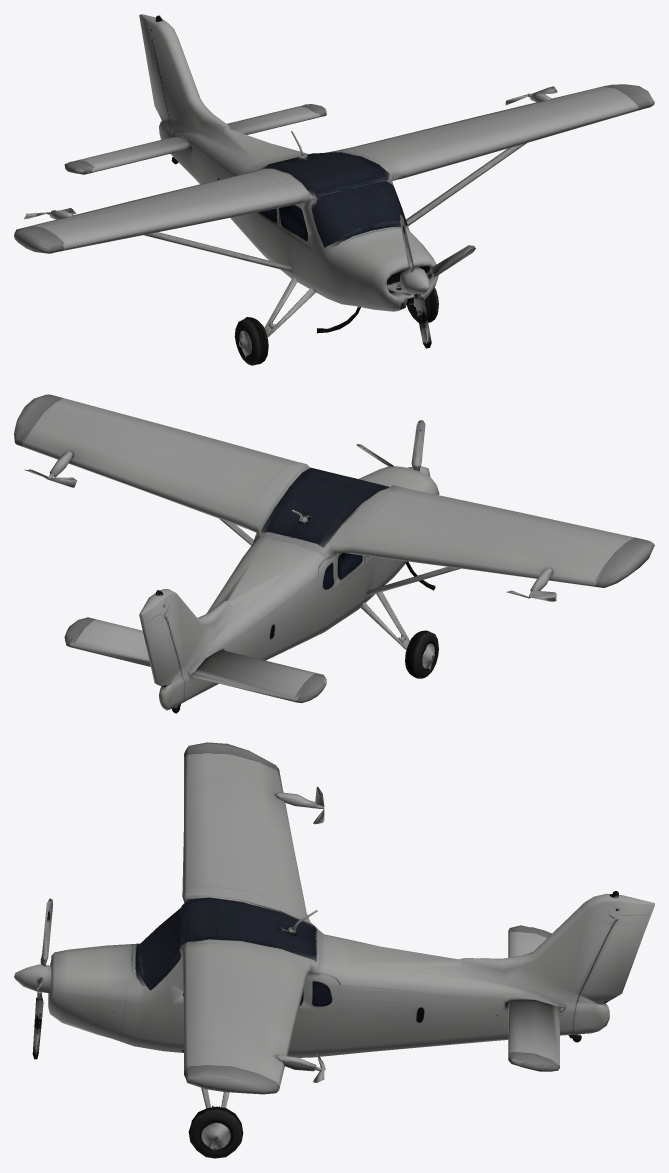
Rendered from cessna.glb.
3 views of the same model, one above another, from view 1: azimuth 30°, elevation 25°; view 2: azimuth 150°, elevation 25°; view 3: azimuth 270°, elevation 25° (orthographic). The views are drawn at different scales.
Parts seen in each view (by area): view 1: tripo_node_dc18e062-4cb1-491e-96e5-b1acfdfb2a65; view 2: tripo_node_dc18e062-4cb1-491e-96e5-b1acfdfb2a65; view 3: tripo_node_dc18e062-4cb1-491e-96e5-b1acfdfb2a65.
Boxes of the visible parts, x1=… form: tripo_node_dc18e062-4cb1-491e-96e5-b1acfdfb2a65: x1=14, y1=14, x2=654, y2=365; tripo_node_dc18e062-4cb1-491e-96e5-b1acfdfb2a65: x1=14, y1=394, x2=654, y2=713; tripo_node_dc18e062-4cb1-491e-96e5-b1acfdfb2a65: x1=14, y1=742, x2=654, y2=1158.
Size of the model in its own units: 0.998 by 0.3027 by 0.8027.
1 material, 1 textured.
